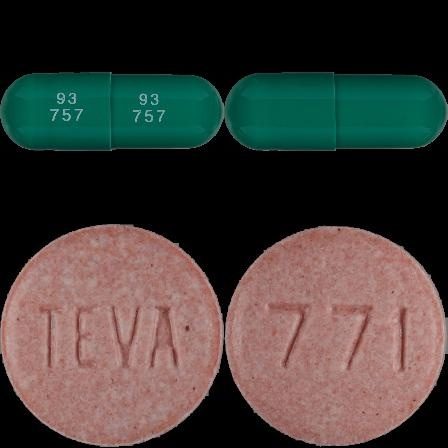0093-0757: (0, 0, 224, 224)
